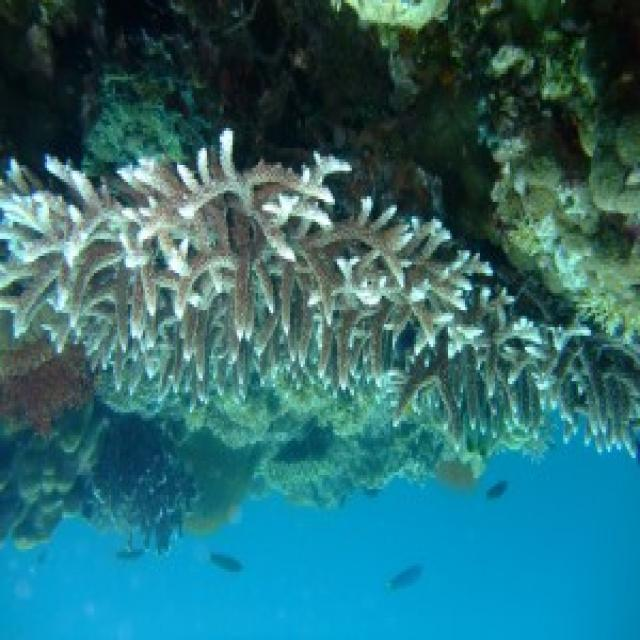Bleached: (1, 127, 493, 358), (437, 308, 577, 391), (536, 186, 589, 291), (331, 1, 446, 47)
Healthy: (1, 1, 307, 143), (490, 137, 640, 284), (95, 416, 194, 557), (1, 427, 92, 549), (1, 354, 110, 428), (198, 403, 374, 445), (195, 430, 260, 540), (580, 287, 640, 344), (264, 456, 333, 494)
